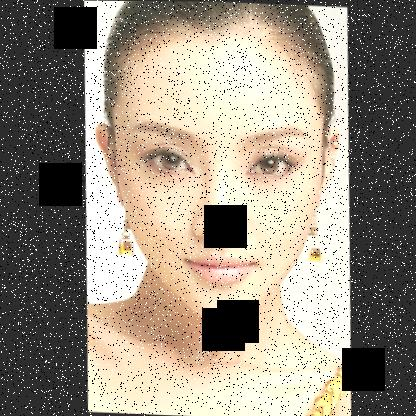Female: (83, 16, 348, 326)
